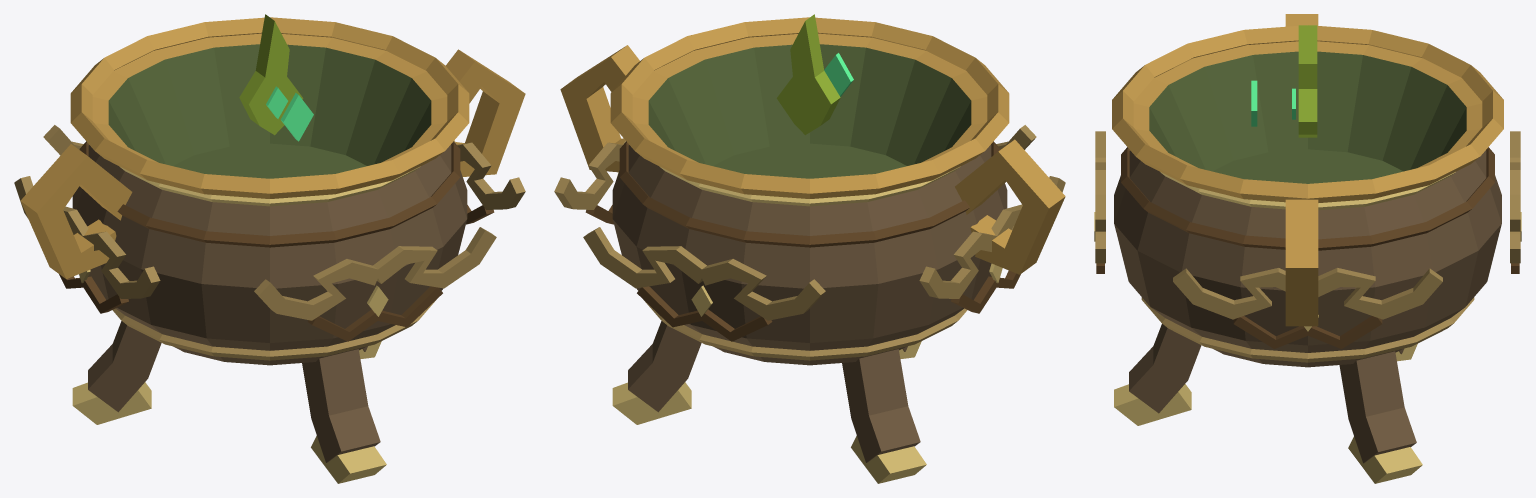
File: copper_ember.obj
3 views of the same model, side by side, from view 1: azimuth 30°, elevation 25°; view 2: azimuth 150°, elevation 25°; view 3: azimuth 270°, elevation 25° (orthographic).
Parts seen in each view (by area): view 1: legacy_vessel, legacy_vessel_inner, legacy_mouth_band, legacy_vessel_rim, legacy_vessel_hearth, legacy_shoulder_band, legacy_ear_-1, legacy_leg_02_legacy_leg_edge, legacy_leg_01_legacy_leg, legacy_ear_1, legacy_lower_band, legacy_ear_-1_edge (+22 smaller); view 2: legacy_vessel, legacy_vessel_inner, legacy_mouth_band, legacy_vessel_rim, legacy_vessel_hearth, legacy_shoulder_band, legacy_ear_-1, legacy_leg_01_legacy_leg_edge, legacy_leg_00_legacy_leg, legacy_ear_-1_edge, legacy_lower_band, legacy_flame (+22 smaller); view 3: legacy_vessel, legacy_vessel_inner, legacy_mouth_band, legacy_vessel_rim, legacy_shoulder_band, legacy_vessel_hearth, legacy_ear_1_edge, legacy_leg_00_legacy_leg_edge, legacy_lower_band, legacy_leg_02_legacy_leg, legacy_relief_01_brow_right, legacy_flame_edge (+16 smaller).
Boxes of the visible parts, box(x1,y1,x2,y2) form: legacy_vessel: box(72, 145, 467, 365); legacy_vessel_inner: box(108, 44, 431, 165); legacy_mouth_band: box(70, 17, 469, 198); legacy_vessel_rim: box(92, 33, 447, 162); legacy_vessel_hearth: box(173, 143, 366, 178); legacy_shoulder_band: box(79, 141, 460, 247); legacy_ear_-1: box(37, 156, 132, 278); legacy_leg_02_legacy_leg_edge: box(319, 349, 380, 462); legacy_leg_01_legacy_leg: box(88, 325, 161, 412); legacy_ear_1: box(459, 62, 525, 176); legacy_lower_band: box(112, 300, 435, 360); legacy_ear_-1_edge: box(20, 144, 119, 278); legacy_vessel: box(612, 145, 1007, 365); legacy_vessel_inner: box(648, 44, 971, 165); legacy_mouth_band: box(610, 17, 1009, 198); legacy_vessel_rim: box(632, 33, 987, 162); legacy_vessel_hearth: box(713, 143, 906, 178); legacy_shoulder_band: box(619, 141, 1000, 247); legacy_ear_-1: box(955, 151, 1048, 274); legacy_leg_01_legacy_leg_edge: box(859, 349, 920, 462); legacy_leg_00_legacy_leg: box(628, 325, 701, 412); legacy_ear_-1_edge: box(968, 139, 1065, 274); legacy_lower_band: box(644, 300, 967, 360); legacy_flame: box(776, 21, 830, 135); legacy_vessel: box(1114, 150, 1501, 367); legacy_vessel_inner: box(1149, 51, 1466, 171); legacy_mouth_band: box(1112, 25, 1503, 202); legacy_vessel_rim: box(1133, 41, 1482, 167); legacy_shoulder_band: box(1121, 147, 1494, 250); legacy_vessel_hearth: box(1212, 149, 1403, 183); legacy_ear_1_edge: box(1285, 199, 1318, 326); legacy_leg_00_legacy_leg_edge: box(1356, 351, 1416, 462); legacy_lower_band: box(1141, 297, 1474, 362); legacy_leg_02_legacy_leg: box(1129, 328, 1201, 413); legacy_relief_01_brow_right: box(1318, 272, 1442, 319); legacy_flame_edge: box(1298, 25, 1317, 137).
Size of the model in its own units: 1.86 by 1.45 by 1.43.
